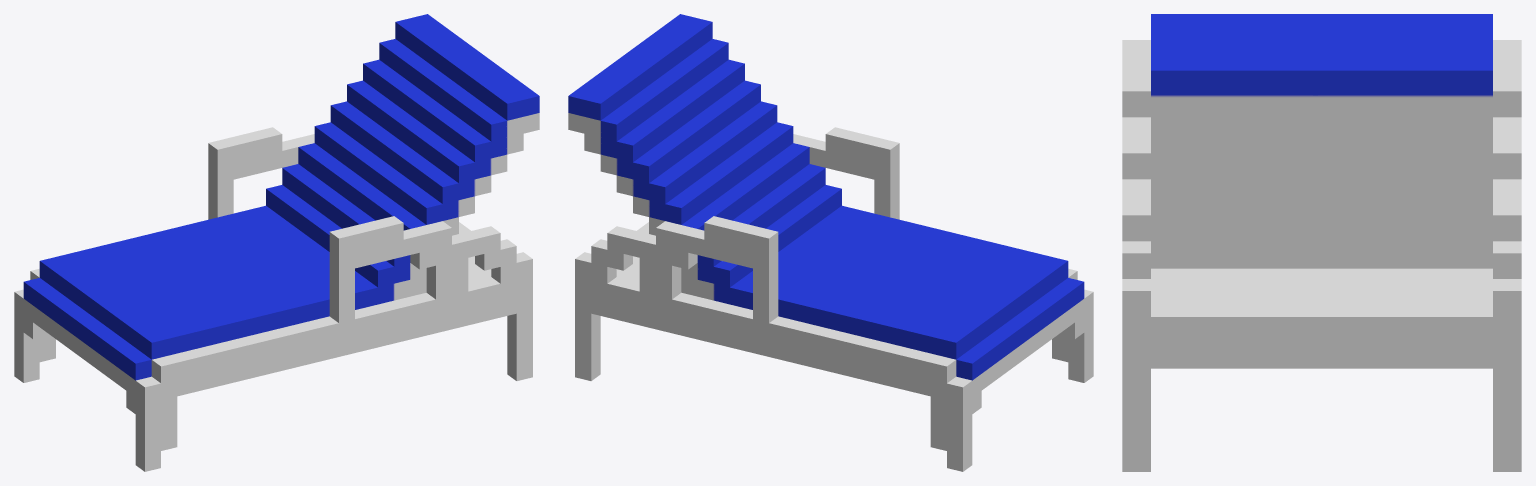
File: beach_chair_1.fbx
3 renders of one model, left to right at view 1: azimuth 30°, elevation 25°; view 2: azimuth 150°, elevation 25°; view 3: azimuth 270°, elevation 25°, orthographic. The views are drawn at different scales.
Visible parts, largest first — view 1: beach_chair_1; view 2: beach_chair_1; view 3: beach_chair_1.
Part boxes in pixels (<box>): beach_chair_1: <box>14,14,539,471</box>; beach_chair_1: <box>568,14,1093,471</box>; beach_chair_1: <box>1122,14,1521,471</box>.
Bounding box in the file's own units: 25 × 16 × 14.
